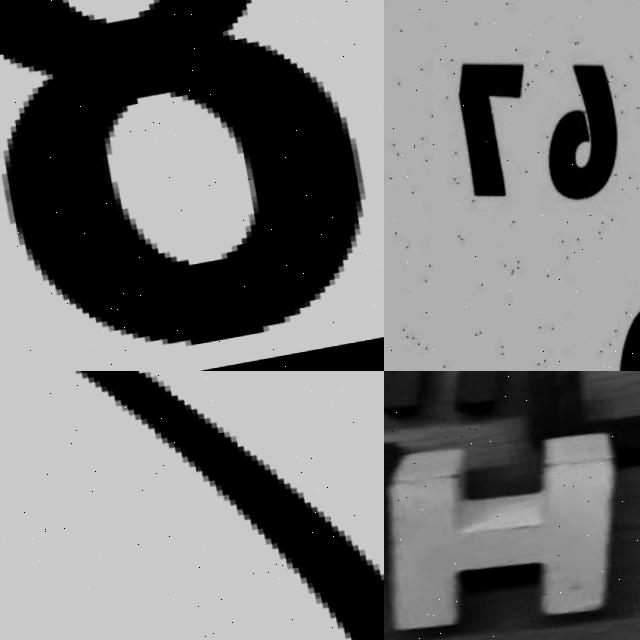0: (571, 277, 640, 371)
5: (604, 35, 640, 238)
6: (504, 29, 640, 229)
7: (3, 371, 384, 640), (402, 35, 551, 229)
8: (0, 0, 384, 371)
H: (384, 407, 640, 640)
M: (384, 371, 563, 449)
O: (487, 371, 640, 482)
